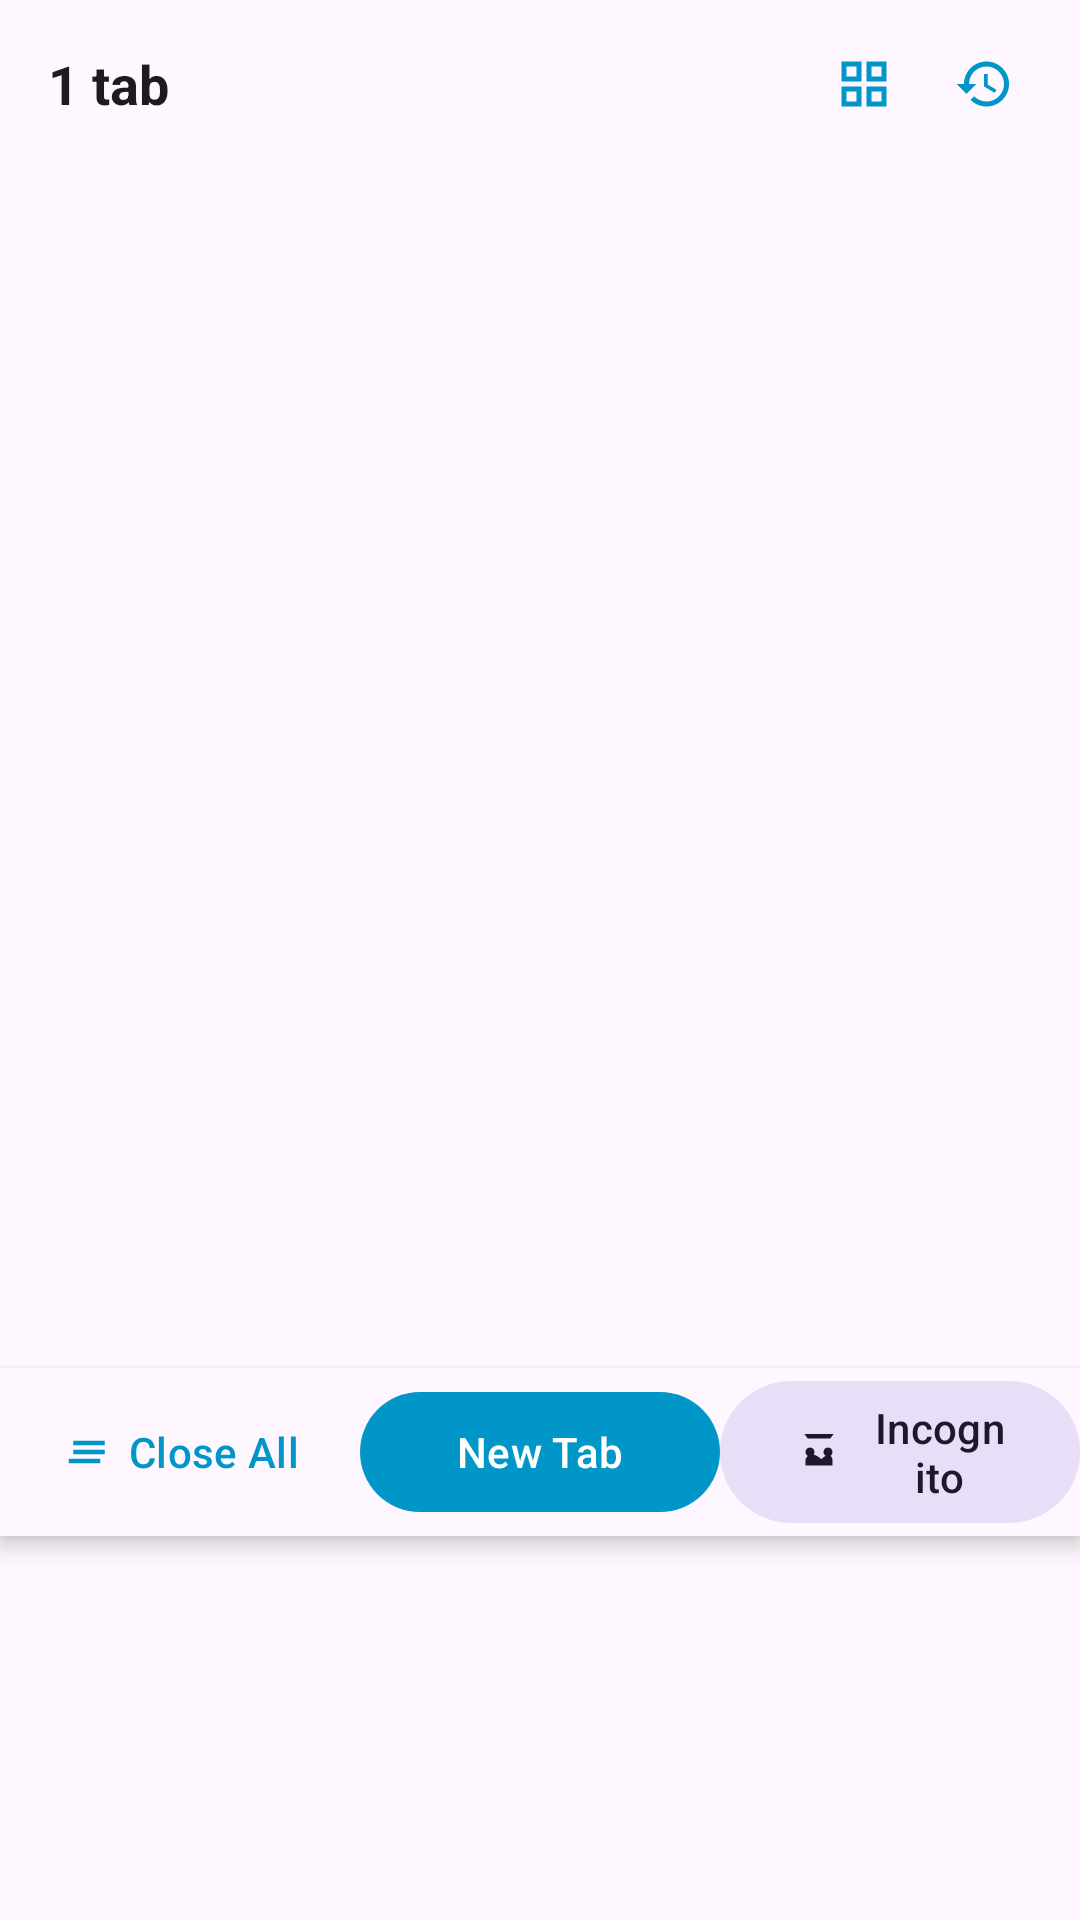

Screen size 1080px×1920px. Icon name, then its box in pixels as (x1, y1, x2, y2):
grid: (841, 61, 887, 107)
restore: (957, 61, 1009, 107)
